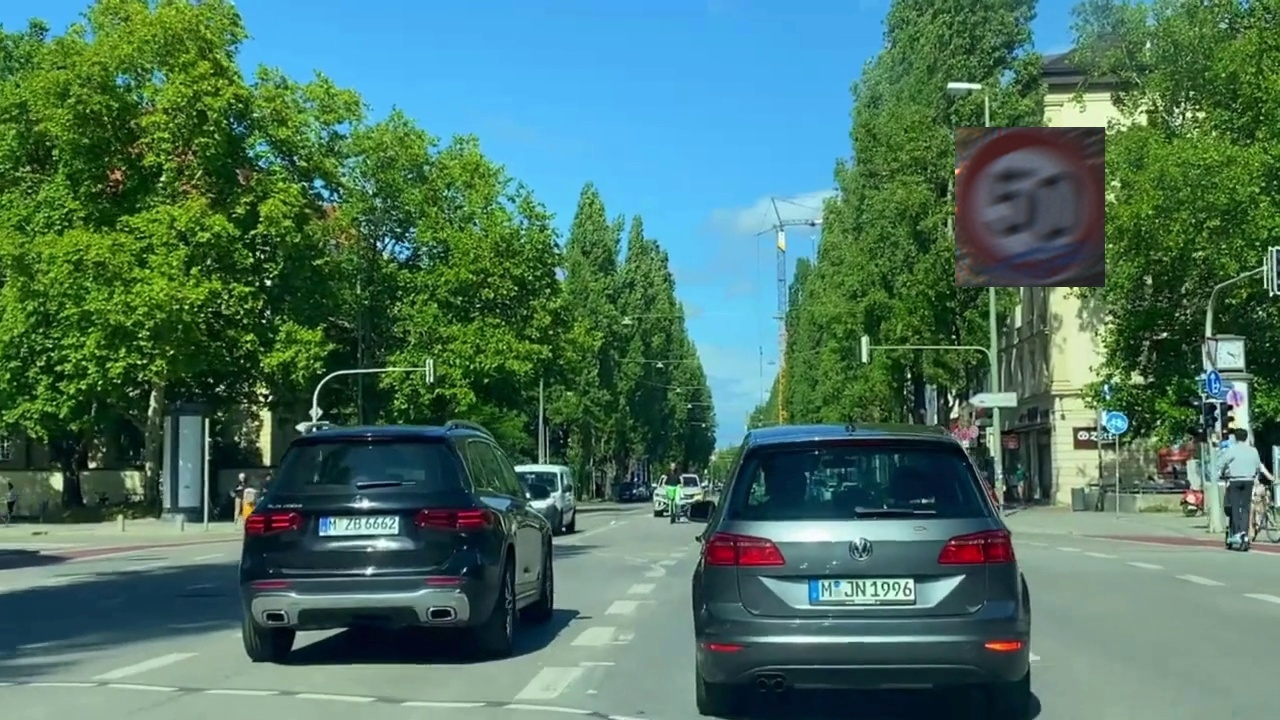Speed 50: (955, 127, 1105, 287)
